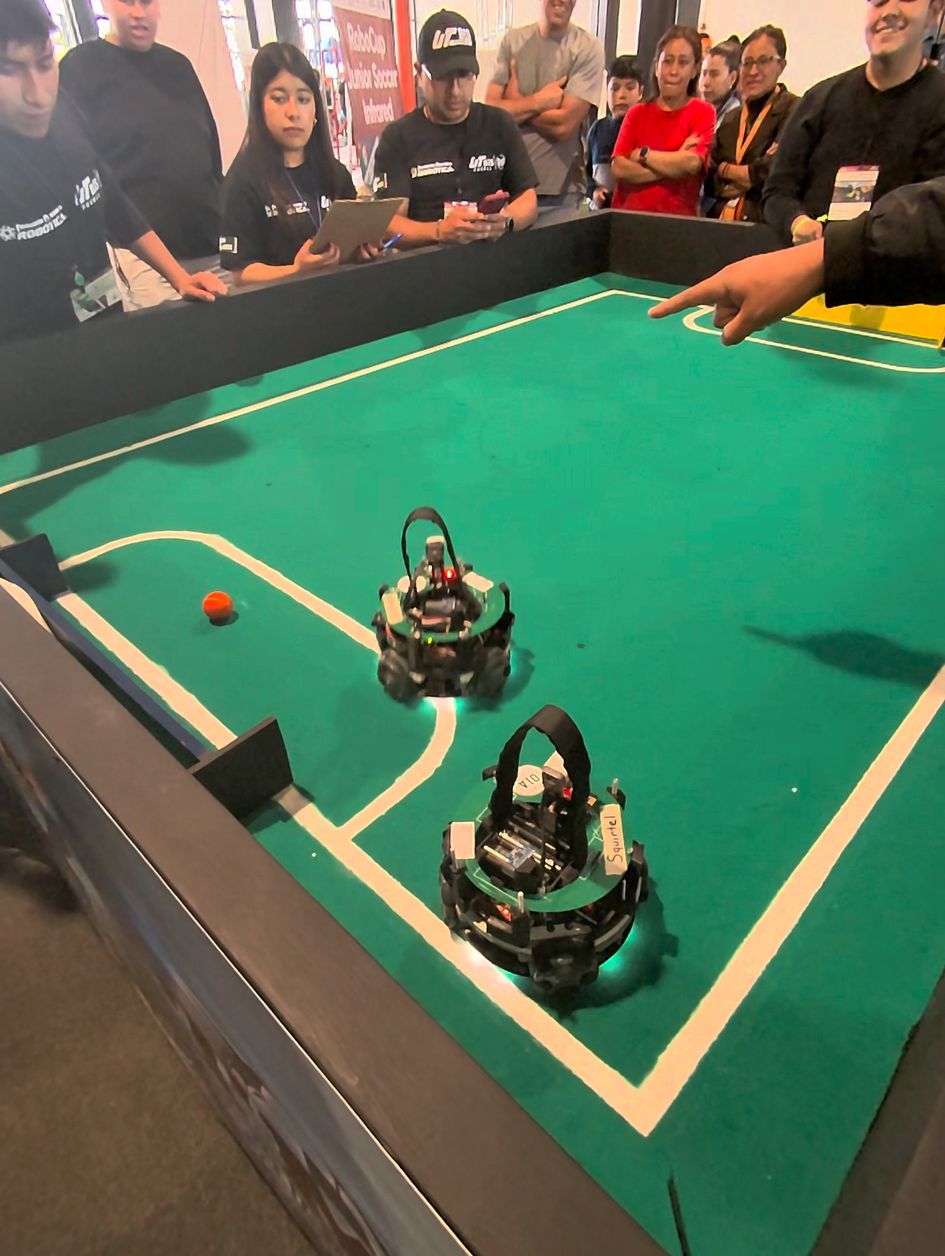Robot: (433, 684, 674, 1014), (366, 494, 514, 713)
pelota: (203, 593, 235, 626)
